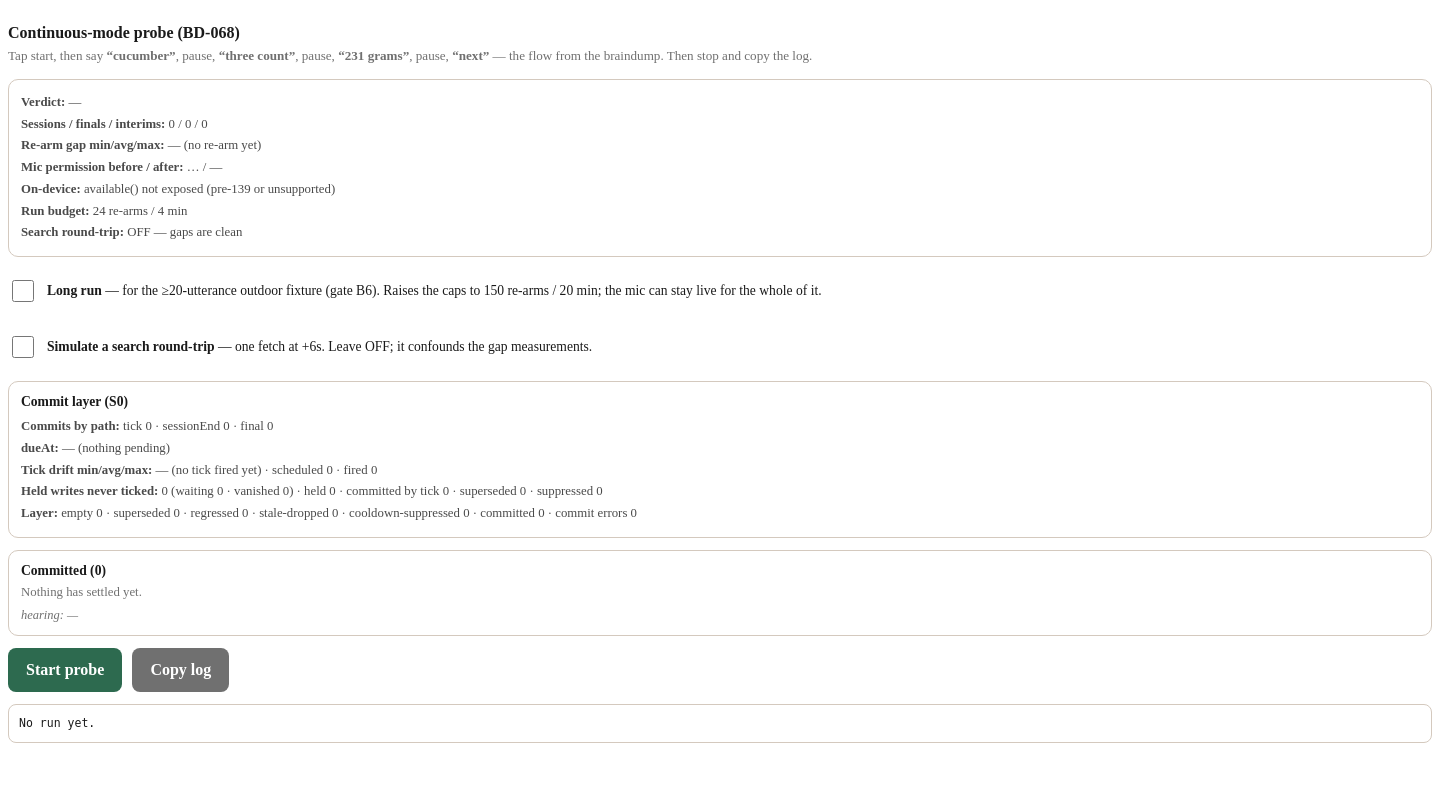
Test: ContinuousVoiceProbe — S0 debounce host › empty finals never commit and are counted
This screenshot has width=1440, height=803.
Click the button "Start probe": [65, 670] box [8,648,122,692]
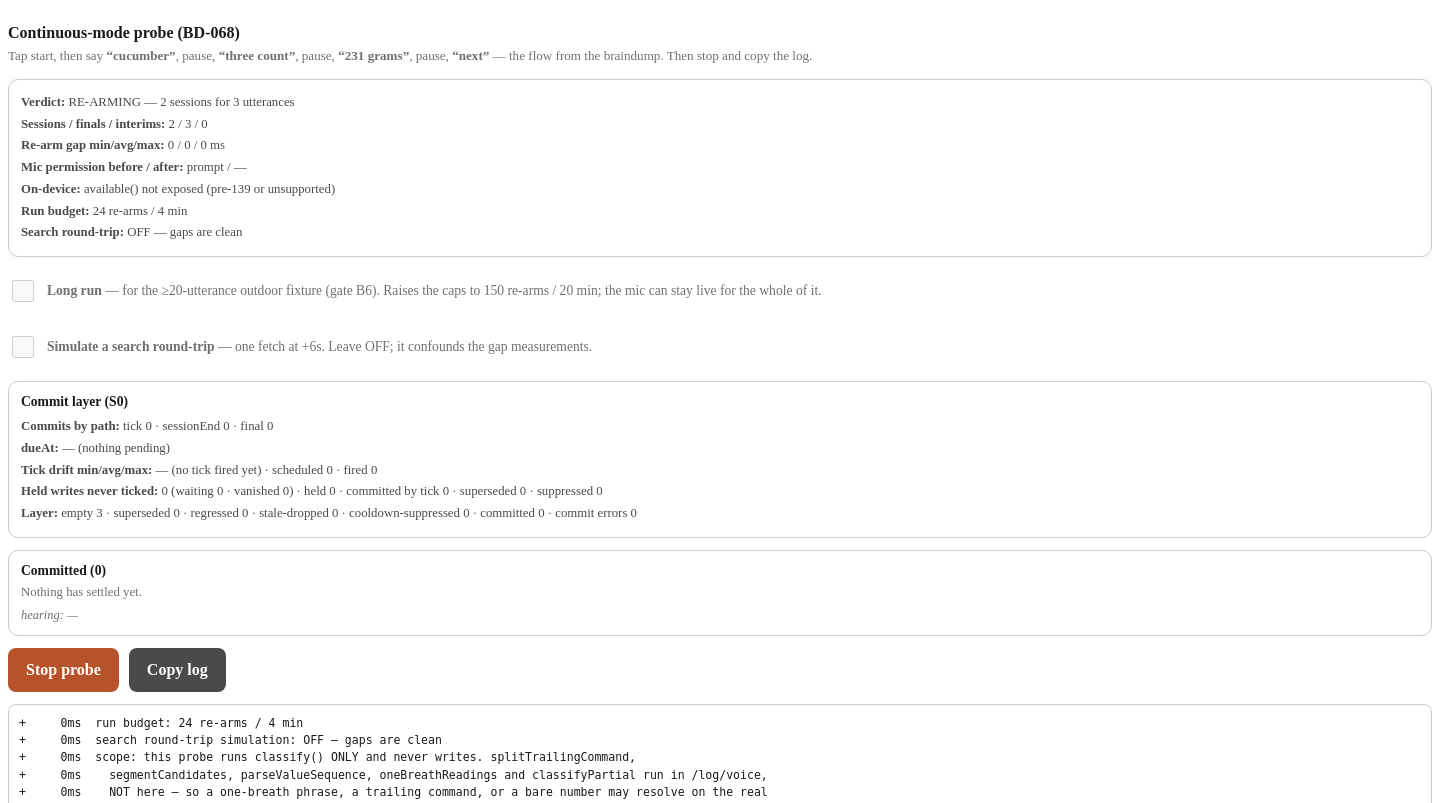
Expected: the element with test id "voice-debounce-stats" shows "empty 3", [21,506,637,520]
